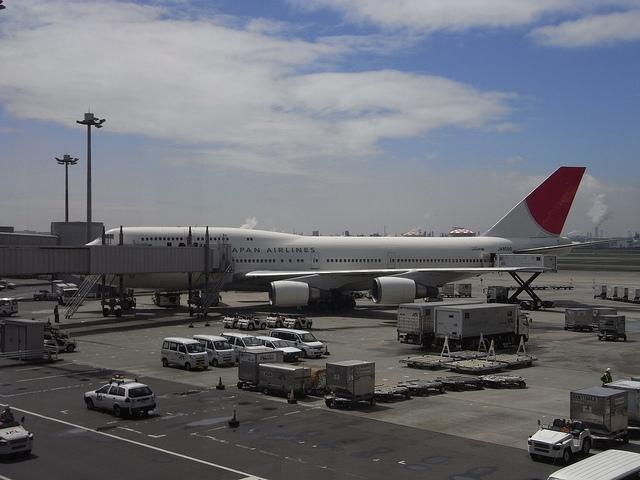car: (526, 416, 596, 466), (84, 374, 158, 418), (220, 332, 274, 362), (1, 407, 32, 457), (160, 338, 208, 370), (191, 333, 236, 367), (255, 336, 302, 362)
truck: (396, 298, 486, 348), (435, 302, 533, 346), (527, 416, 596, 460), (326, 358, 378, 408), (160, 336, 209, 373), (488, 284, 556, 310), (270, 327, 327, 357), (0, 420, 35, 460), (56, 282, 81, 304), (284, 316, 314, 330), (238, 316, 266, 330), (223, 312, 243, 329)
